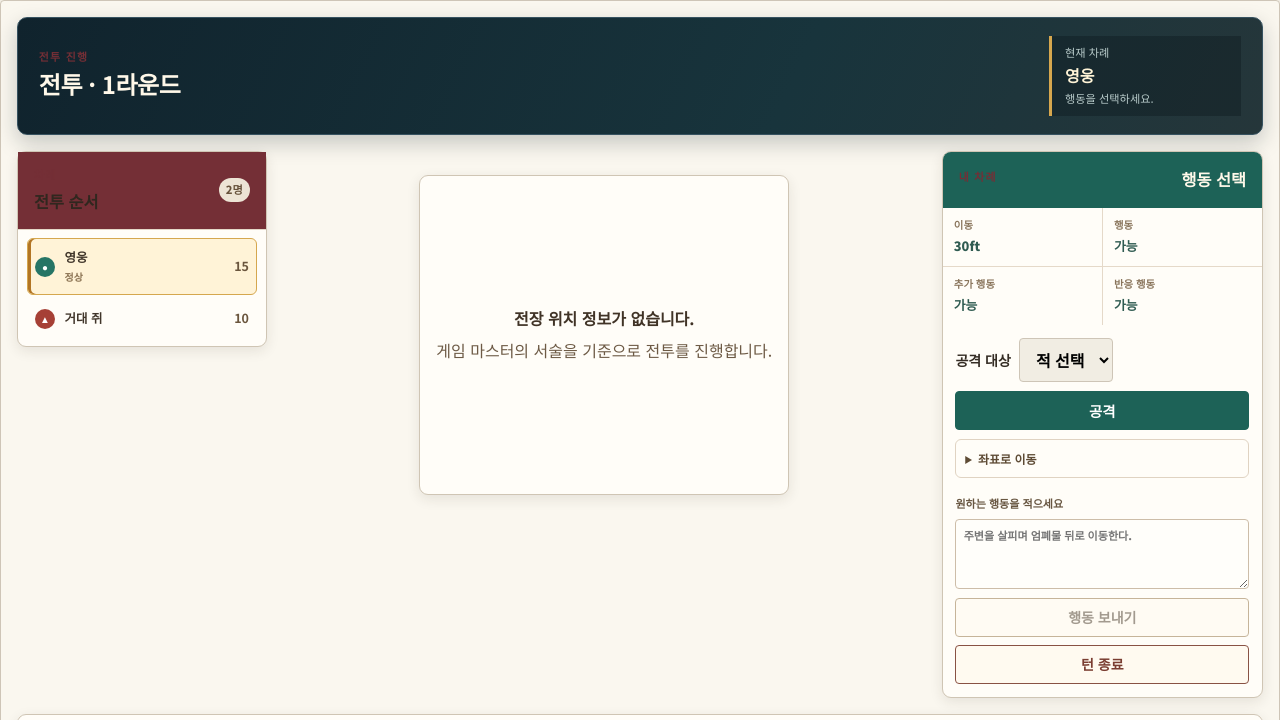
Scenario: CombatScreen › shows safe Korean action status instead of private mechanics or operation identifiers
The image size is (1280, 720).
Select "거대 쥐" in the dropdown labelled "공격 대상" at (1066, 360), box [1019, 338, 1113, 382]
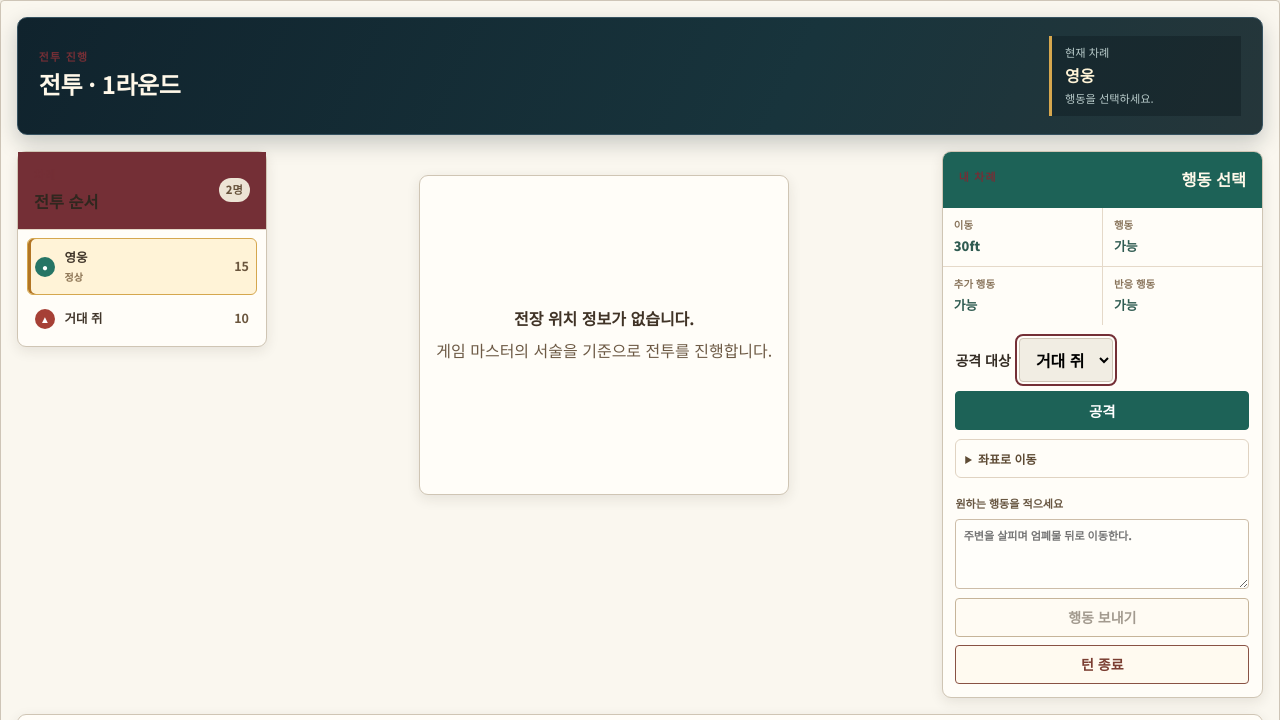
Click the button "공격".
click(1102, 410)  # box [955, 391, 1249, 430]
(page scrolled)
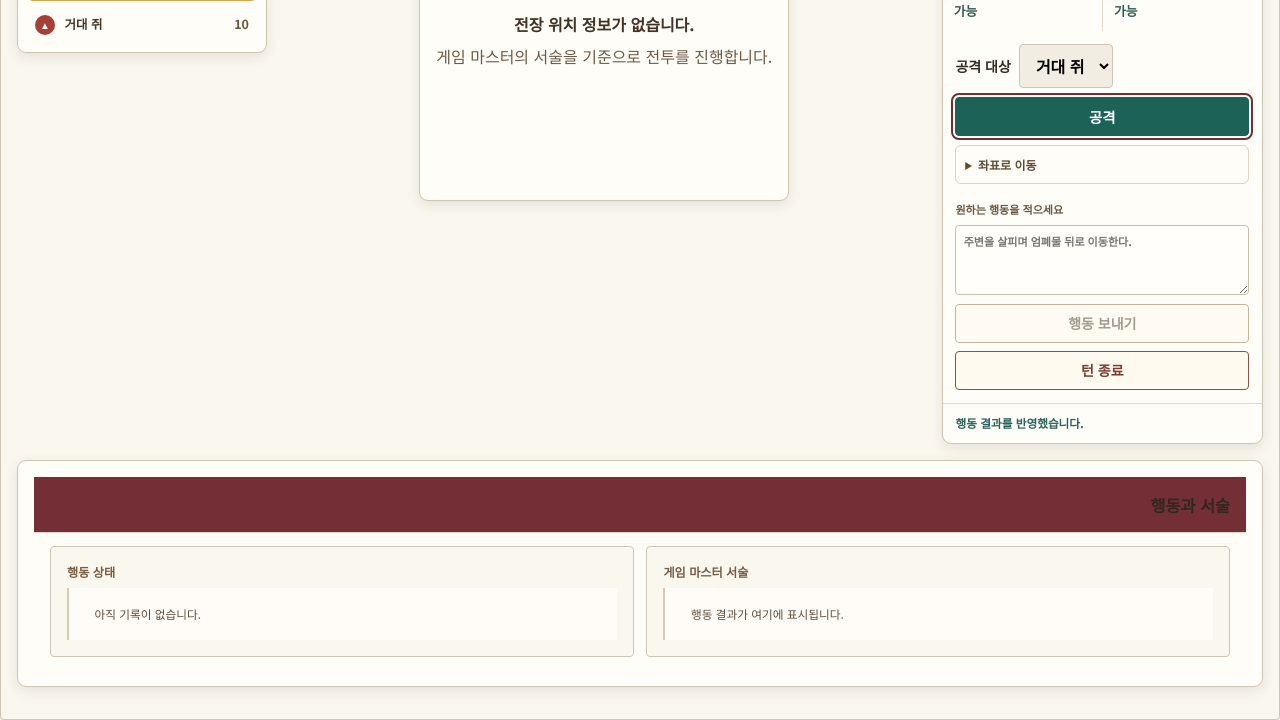
Expected: the text "행동 결과를 반영했습니다." is shown, [943, 403, 1262, 443]
